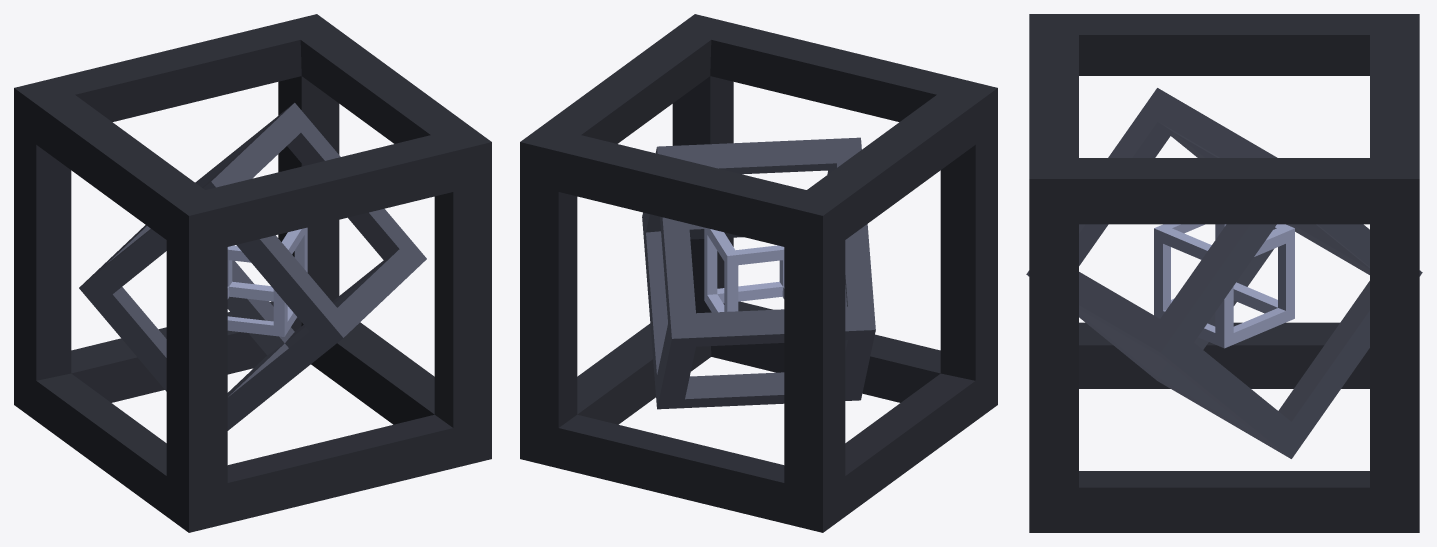
File: P_FloatingCubes.fbx
The picture shows the model from 3 angles, left to right: view 1: azimuth 30°, elevation 25°; view 2: azimuth 150°, elevation 25°; view 3: azimuth 270°, elevation 25°; orthographic projection. The views are drawn at different scales.
Visible parts, largest first — view 1: P_cubeExt, P_cubeMid, P_cubeInt; view 2: P_cubeExt, P_cubeMid, P_cubeInt; view 3: P_cubeExt, P_cubeMid, P_cubeInt.
Part boxes in pixels (x1,y1,x2,y2): P_cubeExt: [14, 14, 491, 532]; P_cubeMid: [79, 102, 426, 430]; P_cubeInt: [227, 227, 307, 336]; P_cubeExt: [520, 14, 997, 532]; P_cubeMid: [642, 137, 875, 409]; P_cubeInt: [704, 227, 784, 312]; P_cubeExt: [1029, 14, 1419, 532]; P_cubeMid: [1026, 88, 1422, 458]; P_cubeInt: [1154, 224, 1294, 348].
Bounding box in the file's own units: 2366 × 2366 × 2402.
